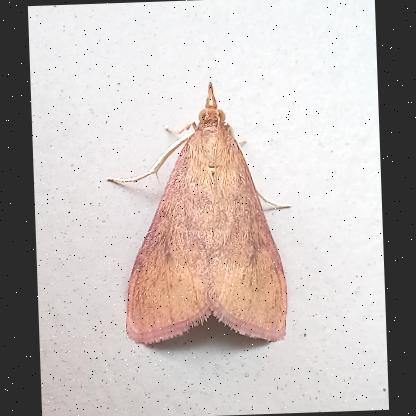Asian Corn Borer Moth: (100, 76, 300, 351)
